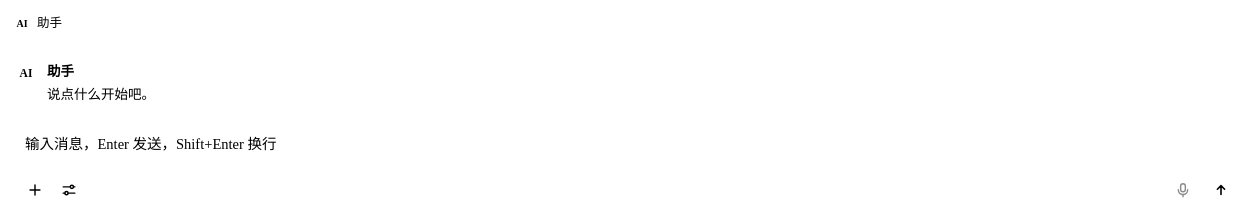
it: 菜单 › @ 经应用给的搜索列出条目；点一项插入编号
The width and height of the screenshot is (1254, 215).
In the text box with test id "conv-input": (631, 149) left=25, top=130, right=1237, bottom=168, type "参考 @sr"
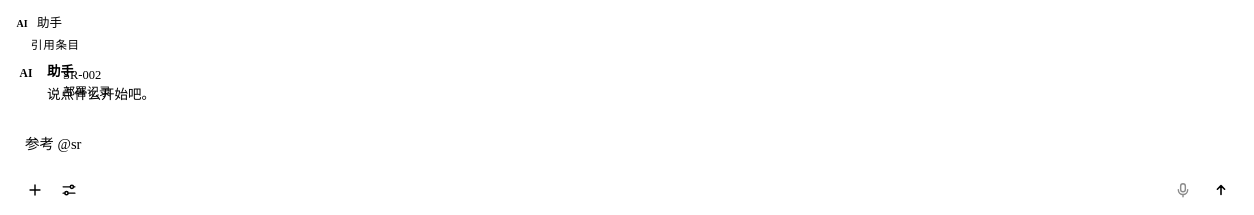
Click the option with test id "conv-menu-item": (82, 75) left=23, top=60, right=353, bottom=108
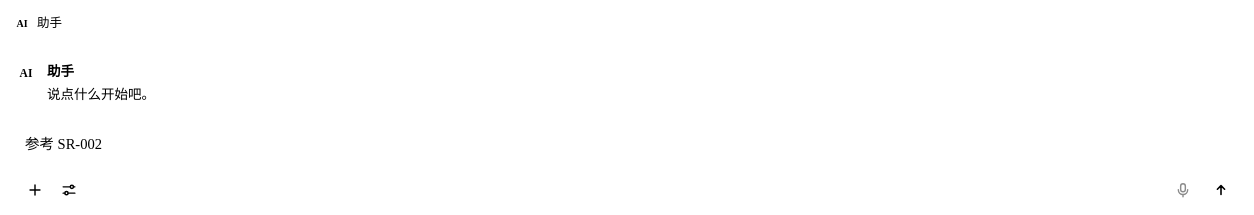
Expected: the text box with test id "conv-input" holds "参考 SR-002 ", left=25, top=130, right=1237, bottom=168
